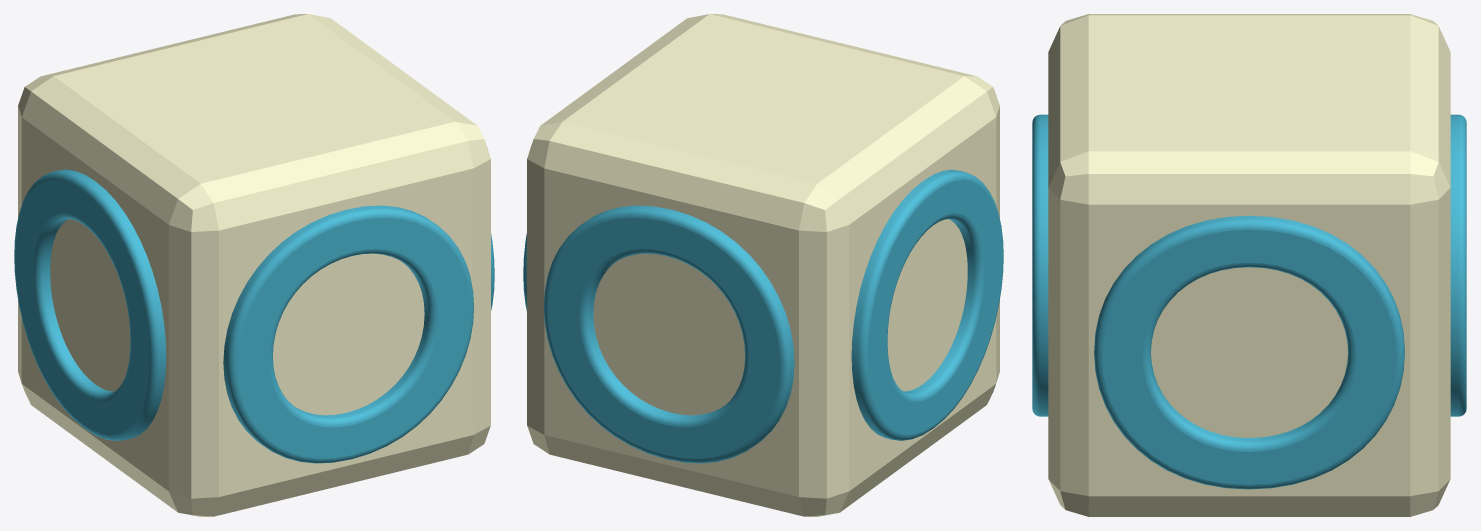
3 renders of one model, left to right at view 1: azimuth 30°, elevation 25°; view 2: azimuth 150°, elevation 25°; view 3: azimuth 270°, elevation 25°, orthographic. The views are drawn at different scales.
Visible parts, largest first — view 1: O; view 2: O; view 3: O.
Boxes of the visible parts, x1,y1,x2,y2 form: O: (14,14,494,516); O: (523,14,1003,516); O: (1032,14,1466,516).
Bounding box in the file's own units: 216 × 200 × 216.
